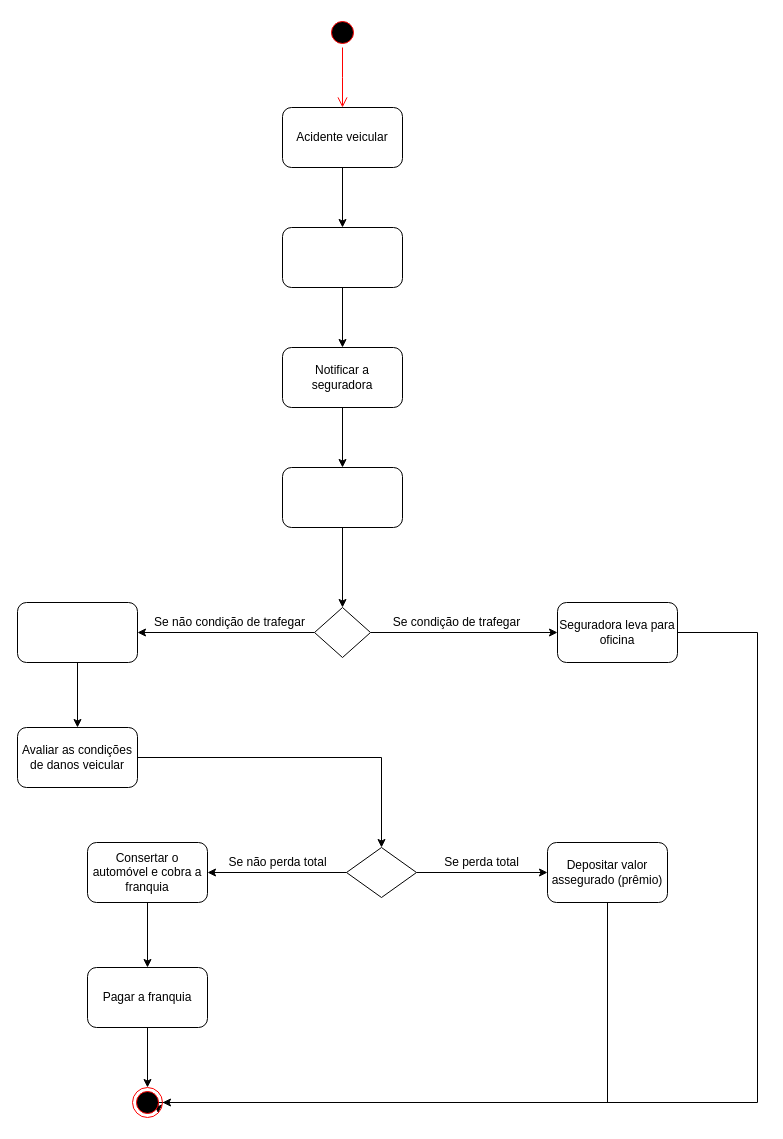
This 783x1139 diagram has some shape labels left out. Here are the shapes that lost their labels. From the top down, the centre of each, then its label:
(x=342, y=257): Acionar a polícia para emissão B.O
(x=342, y=497): Condições veicular
(x=77, y=632): segurado aciona o reboque para levar para oficina
